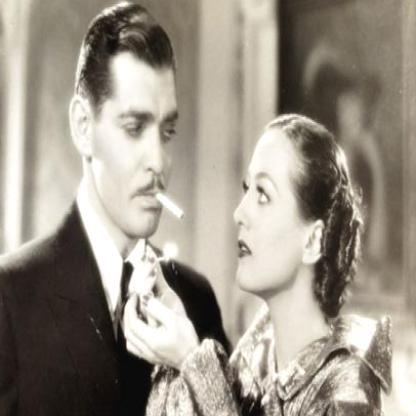cigarette: (156, 194, 184, 222)
person: (0, 0, 196, 415), (229, 110, 372, 416)
